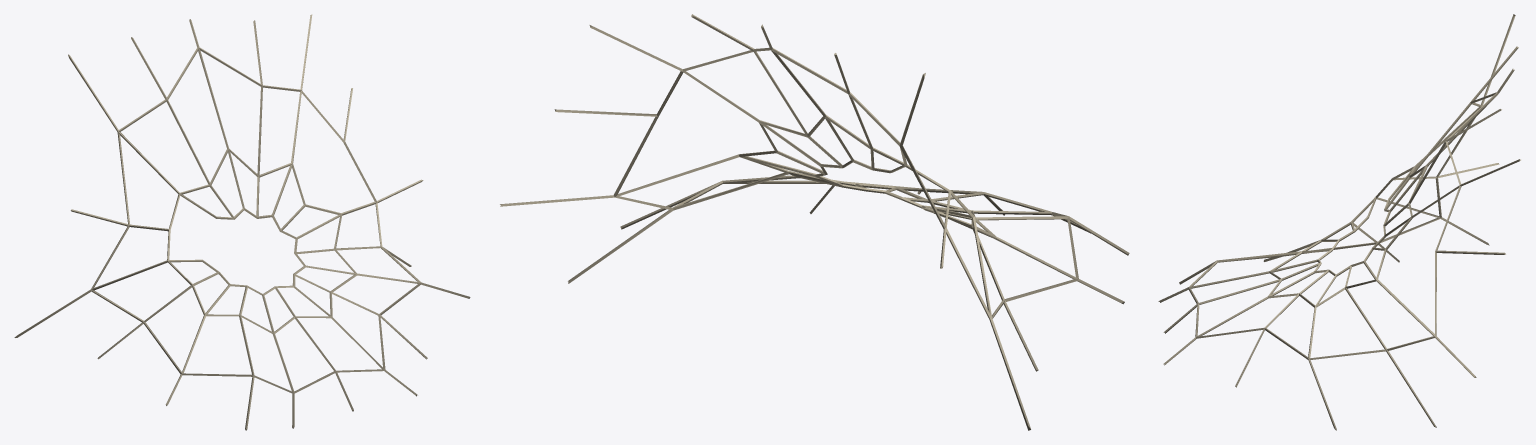
File: pq_toile_araignee_2.glb
3 views of the same model, side by side, from view 1: azimuth 30°, elevation 25°; view 2: azimuth 150°, elevation 25°; view 3: azimuth 270°, elevation 25° (orthographic). The views are drawn at different scales.
Parts seen in each view (by area): view 1: Cobweb2; view 2: Cobweb2; view 3: Cobweb2.
Part boxes in pixels (x1=…): Cobweb2: x1=14, y1=14, x2=470, y2=430; Cobweb2: x1=500, y1=14, x2=1129, y2=430; Cobweb2: x1=1158, y1=14, x2=1520, y2=430.
Bounding box in the file's own units: 1.34 × 0.8451 × 1.03.
